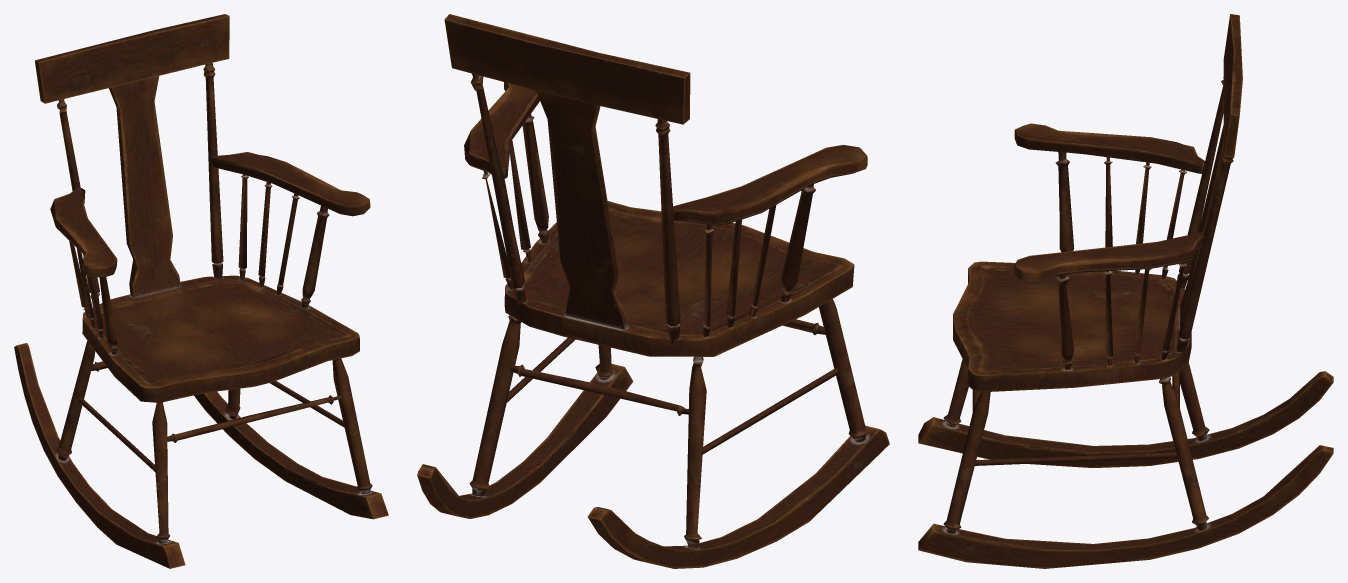
File: rockingchair_01.glb
3 views of the same model, side by side, from view 1: azimuth 30°, elevation 25°; view 2: azimuth 150°, elevation 25°; view 3: azimuth 270°, elevation 25° (orthographic). The views are drawn at different scales.
Visible parts, largest first — view 1: Rockingchair_01; view 2: Rockingchair_01; view 3: Rockingchair_01.
Part boxes in pixels (bbox=[...]): Rockingchair_01: bbox=[14, 14, 388, 568]; Rockingchair_01: bbox=[417, 14, 889, 568]; Rockingchair_01: bbox=[918, 14, 1333, 568].
Size of the model in its own units: 0.7081 by 0.9949 by 0.8335.
1 material, 1 textured.
